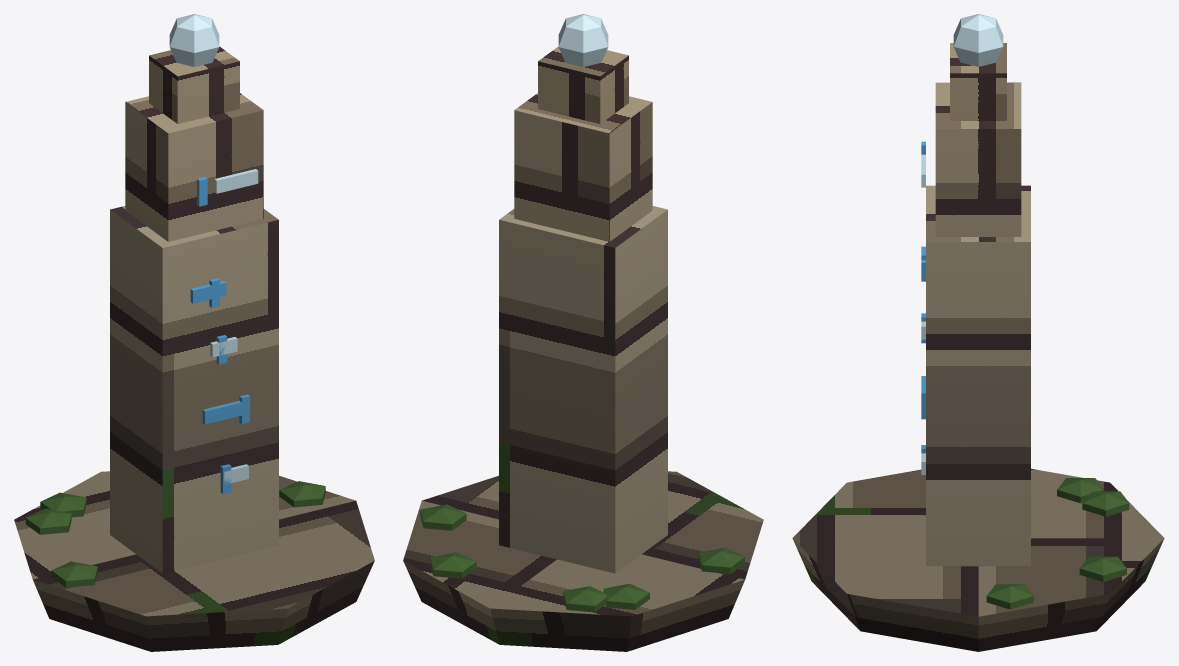
Rendered from waystone.glb.
3 views of the same model, side by side, from view 1: azimuth 30°, elevation 25°; view 2: azimuth 150°, elevation 25°; view 3: azimuth 270°, elevation 25° (orthographic).
Parts seen in each view (by area): view 1: waystone; view 2: waystone; view 3: waystone.
Boxes of the visible parts, left/top/right/bottom form: waystone: left=14, top=14, right=374, bottom=651; waystone: left=403, top=14, right=763, bottom=651; waystone: left=792, top=14, right=1164, bottom=651.
Size of the model in its own units: 1.56 by 2.62 by 1.56.
3 materials, 1 textured.
